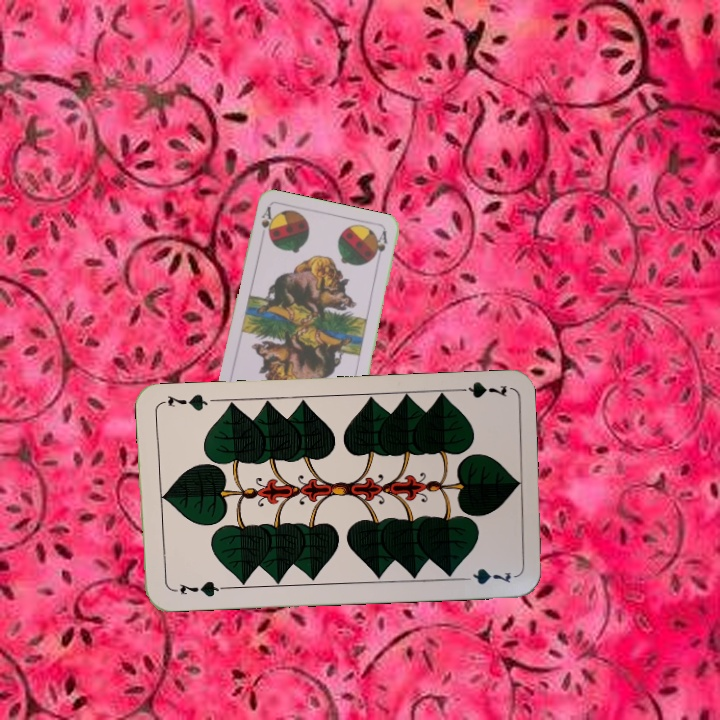G7: (167, 577, 226, 600), (450, 378, 509, 401)
SA: (257, 203, 276, 239)
